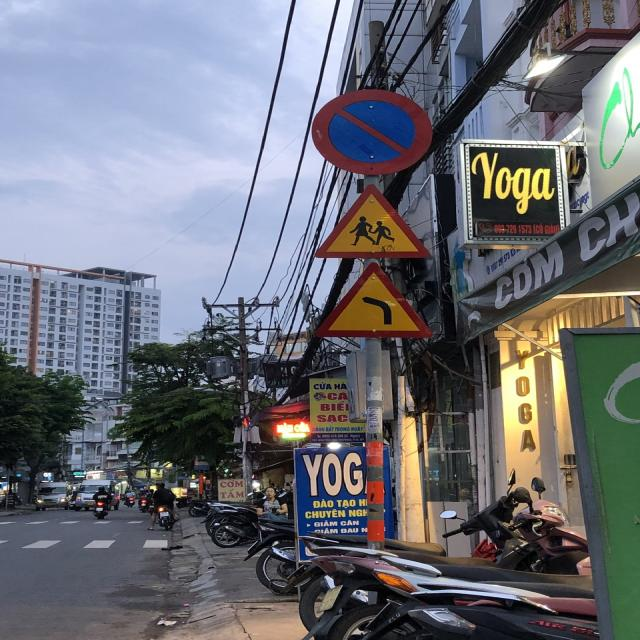Bien bao cam do xe: (302, 84, 444, 178)
Bien bao cho ngoat nguy hiem: (302, 260, 438, 341)
Bien bao tre em: (308, 180, 447, 266)
